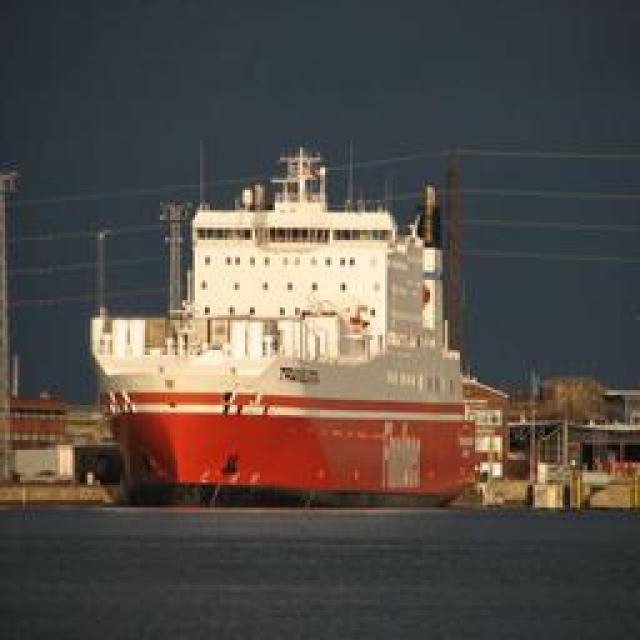ship2: (91, 138, 478, 511)
